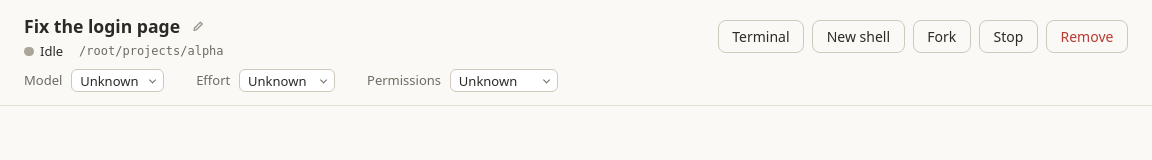
a rename the hub refuses says why
Click the button named "Rename": (198, 26) [185,13,210,39]
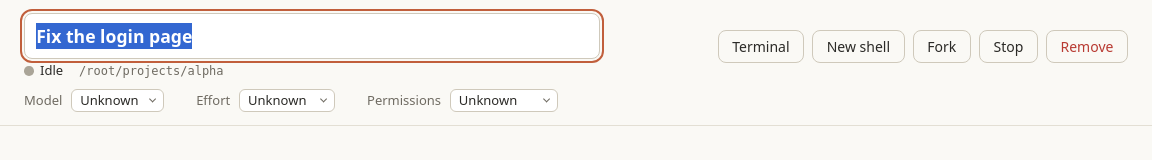
Replace the text in the field named "Session name" with "Login redesign": (312, 36) [24,13,600,59]
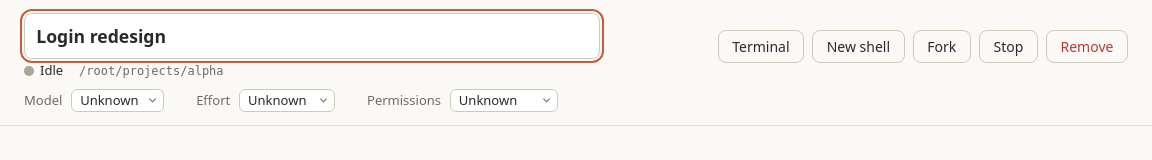
Press Enter in the field named "Session name", box [24,13,600,59]
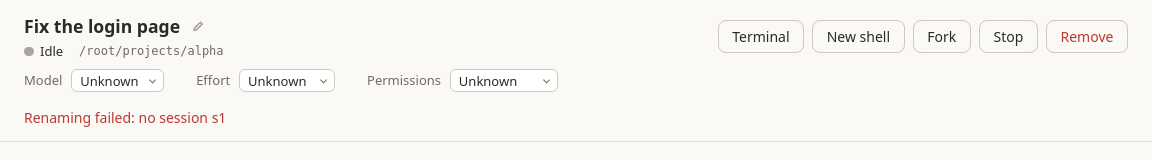
Now the message reads "Renaming failed: no session s1", box [24,108,226,127]
